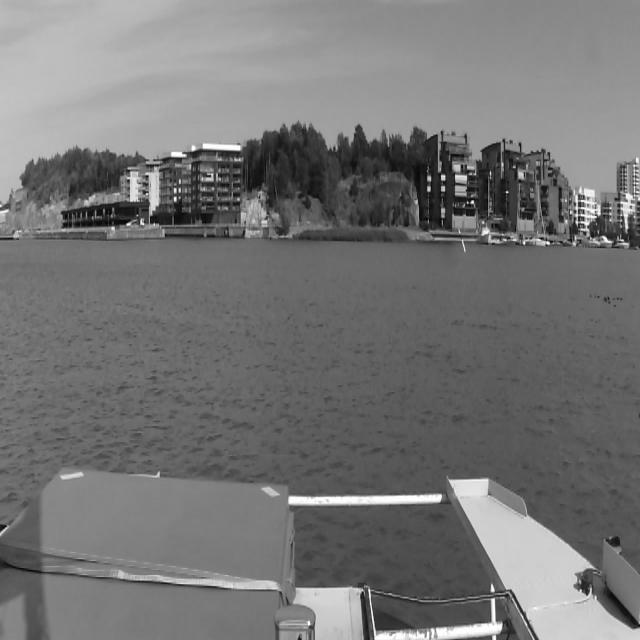buoy: (458, 225, 468, 255)
ship: (534, 179, 550, 248), (475, 216, 493, 247), (596, 234, 612, 249), (614, 234, 629, 250), (503, 232, 516, 248), (562, 238, 572, 248)
